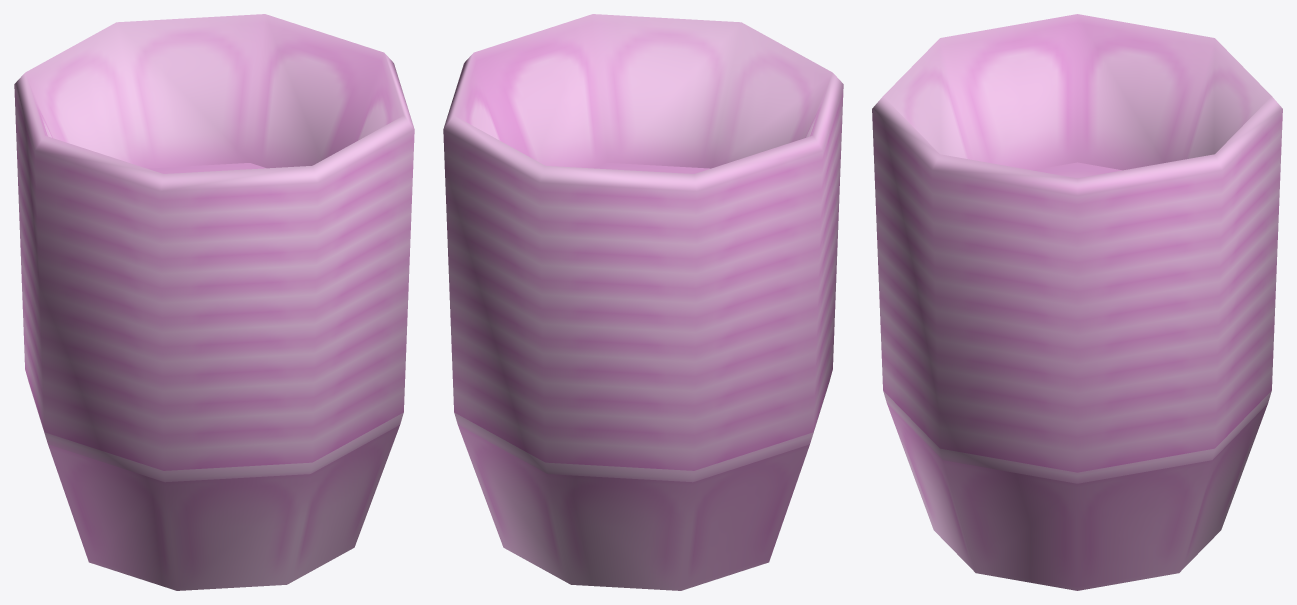
The model's file is jsf_ShavedIceCup_02_Set02.fbx.
The picture shows the model from 3 angles, left to right: view 1: azimuth 30°, elevation 25°; view 2: azimuth 150°, elevation 25°; view 3: azimuth 270°, elevation 25°; orthographic projection.
Parts seen in each view (by area): view 1: jsf_ShavedIceCup_02_Set02; view 2: jsf_ShavedIceCup_02_Set02; view 3: jsf_ShavedIceCup_02_Set02.
Part boxes in pixels (left/top/right/bottom): jsf_ShavedIceCup_02_Set02: left=14, top=14, right=414, bottom=590; jsf_ShavedIceCup_02_Set02: left=443, top=14, right=843, bottom=590; jsf_ShavedIceCup_02_Set02: left=872, top=14, right=1282, bottom=590.
Size of the model in its own units: 12 by 13.98 by 12.
